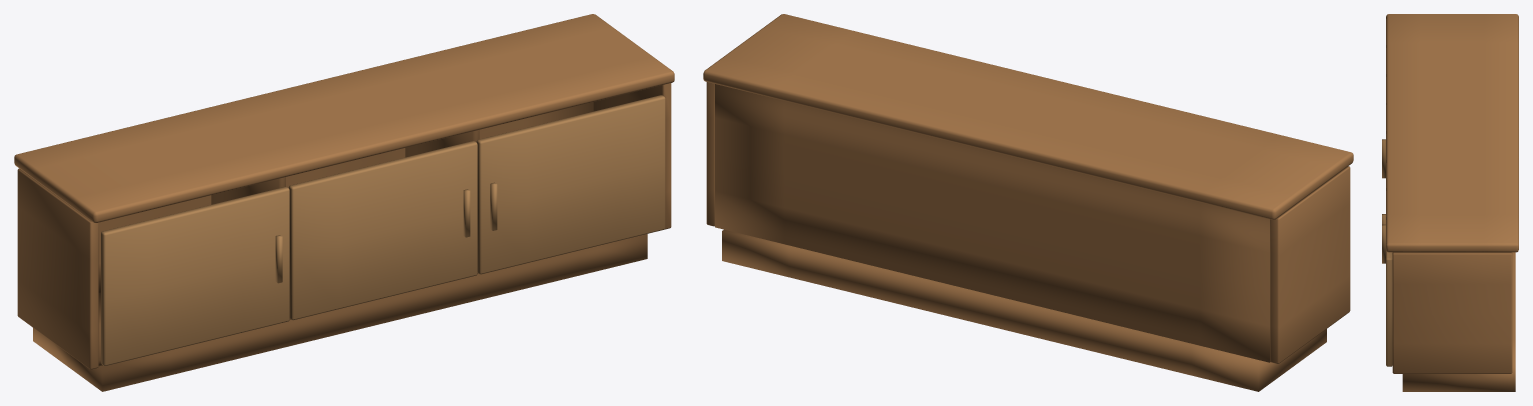
The model's file is meubletv.glb.
3 renders of one model, left to right at view 1: azimuth 30°, elevation 25°; view 2: azimuth 150°, elevation 25°; view 3: azimuth 270°, elevation 25°, orthographic. The views are drawn at different scales.
Visible parts, largest first — view 1: corps, porte_2, porte_3, porte_1; view 2: corps; view 3: corps, porte_3, porte_1.
Boxes of the visible parts, left/top/right/bottom form: corps: left=14, top=14, right=674, bottom=391; porte_2: left=288, top=141, right=477, bottom=320; porte_3: left=476, top=95, right=665, bottom=274; porte_1: left=101, top=187, right=289, bottom=365; corps: left=703, top=14, right=1353, bottom=391; corps: left=1386, top=14, right=1518, bottom=391; porte_3: left=1382, top=224, right=1392, bottom=366; porte_1: left=1382, top=139, right=1385, bottom=178.
Size of the model in its own units: 1.6 by 0.5 by 0.4.
